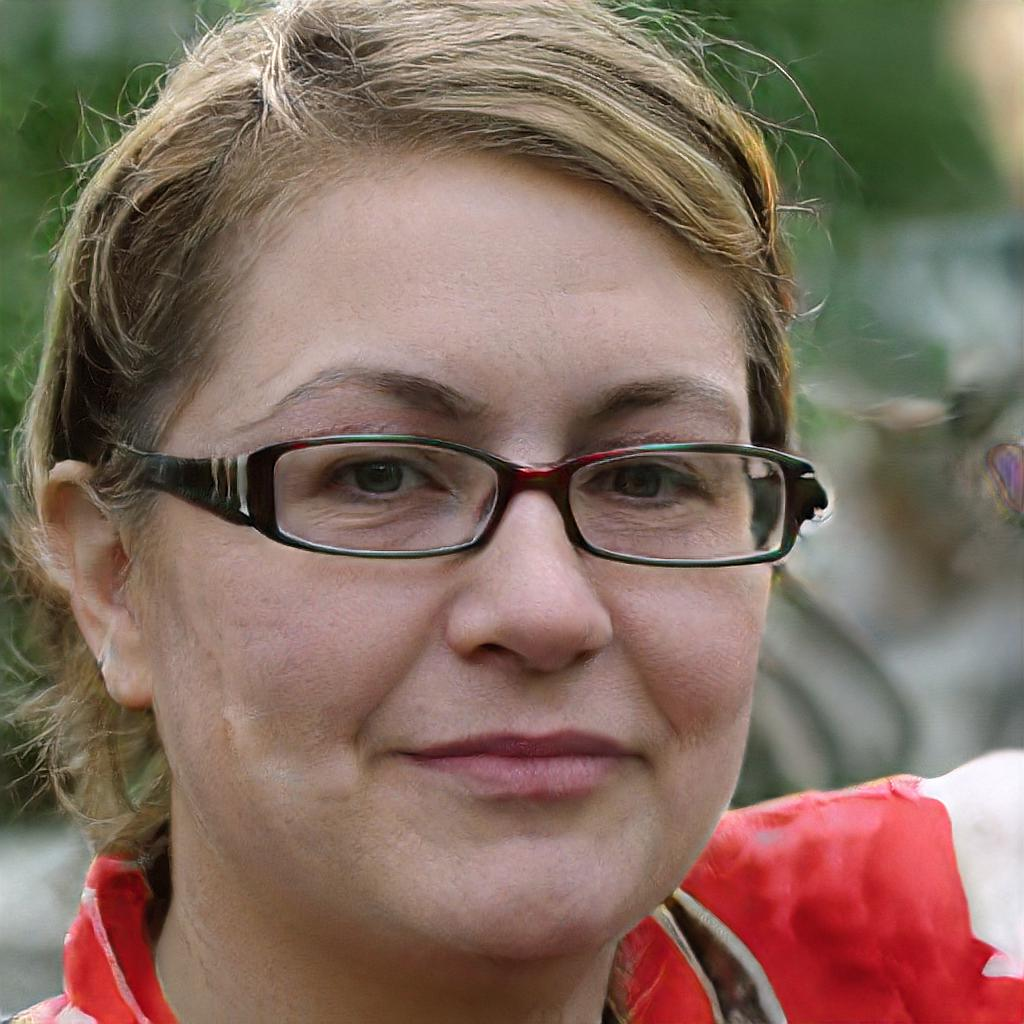face: (154, 158, 772, 961)
